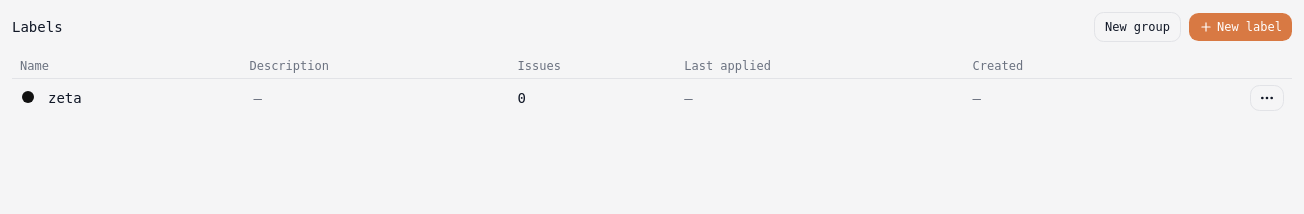
Test: labels settings › adds a child label with the parent id
Expected: the text "zeta" is shown, [48, 90, 82, 106]
Click the button named "Actions for zeta" at (1267,98), box [1250, 85, 1284, 111]
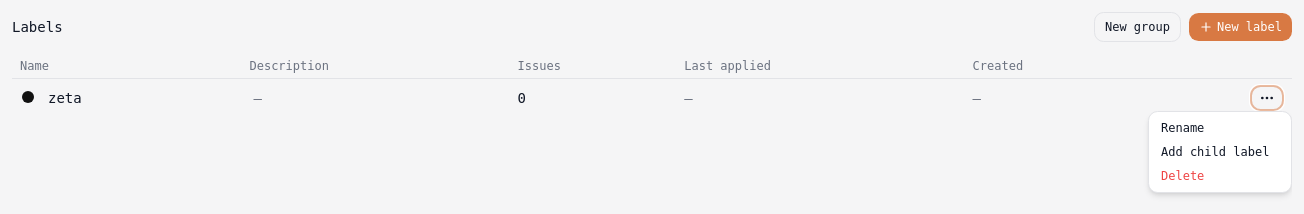
Click the menu item "Add child label" at (1220,152), box [1153, 140, 1287, 164]
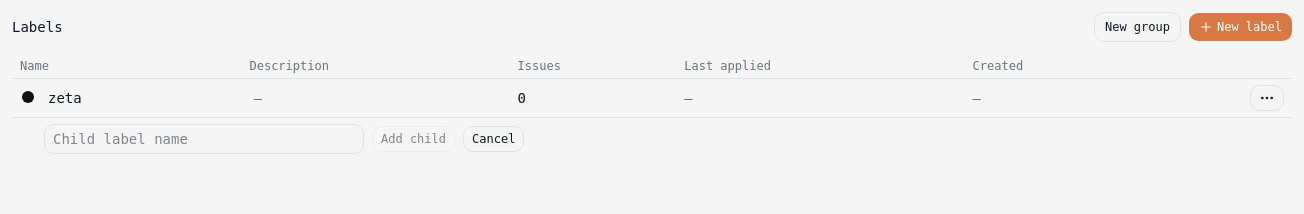
Type "ui" into the field labelled "Child label name" at (204,139), box [44, 124, 364, 154]
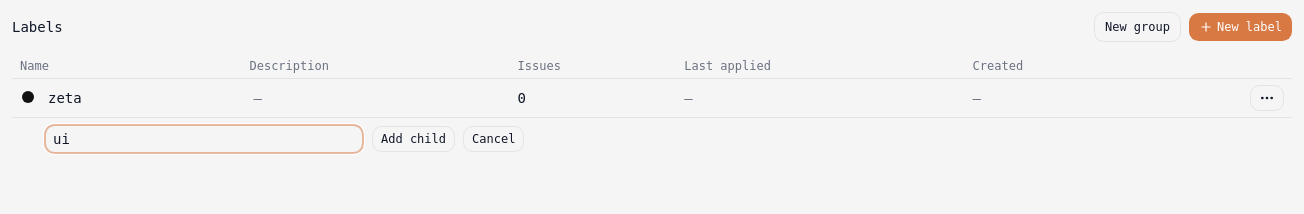
Click the button "Add child" at (414,139), box [372, 126, 455, 152]
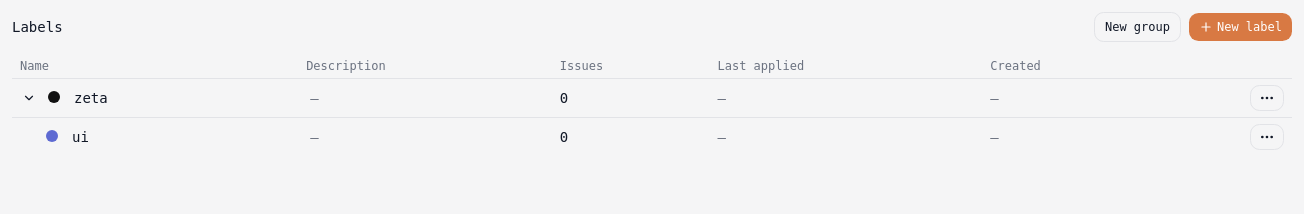
Expected: the text "ui" is shown, [72, 129, 89, 145]
